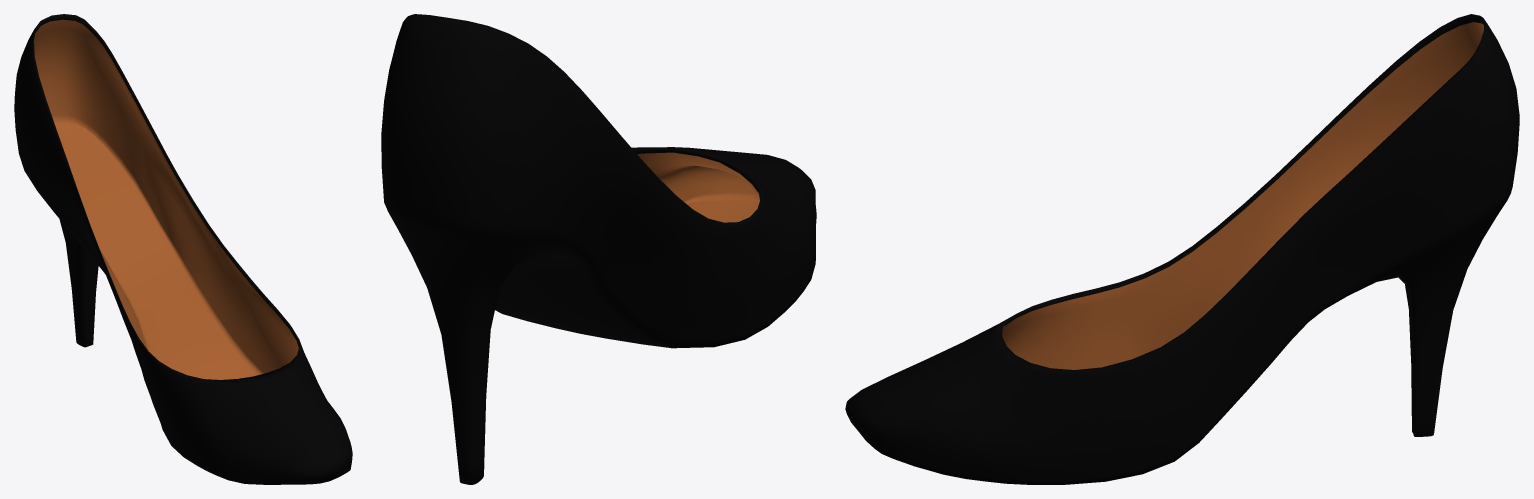
The model's file is left_shose.fbx.
3 views of the same model, side by side, from view 1: azimuth 30°, elevation 25°; view 2: azimuth 150°, elevation 25°; view 3: azimuth 270°, elevation 25° (orthographic). The views are drawn at different scales.
Parts seen in each view (by area): view 1: left_shoe_; view 2: left_shoe_; view 3: left_shoe_.
Part boxes in pixels (<box>): left_shoe_: <box>14,14,352,484</box>; left_shoe_: <box>381,14,816,484</box>; left_shoe_: <box>845,14,1519,484</box>.
Bounding box in the file's own units: 0.6499 × 1.33 × 2.
